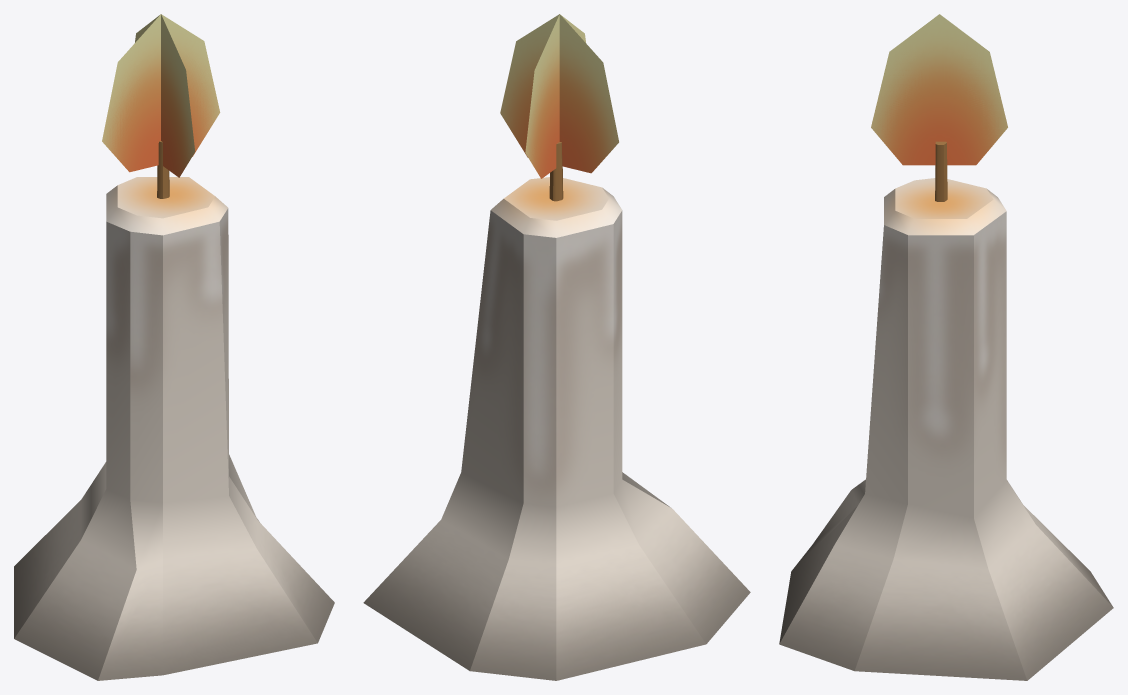
The model's file is SM_candle01.fbx.
3 views of the same model, side by side, from view 1: azimuth 30°, elevation 25°; view 2: azimuth 150°, elevation 25°; view 3: azimuth 270°, elevation 25° (orthographic).
Parts seen in each view (by area): view 1: SM_candle01; view 2: SM_candle01; view 3: SM_candle01.
Part boxes in pixels (box(x1,y1,x2,y2)): SM_candle01: box(14, 14, 334, 680); SM_candle01: box(363, 14, 750, 680); SM_candle01: box(779, 14, 1113, 680).
Bounding box in the file's own units: 0.8158 × 1.54 × 0.7898.
